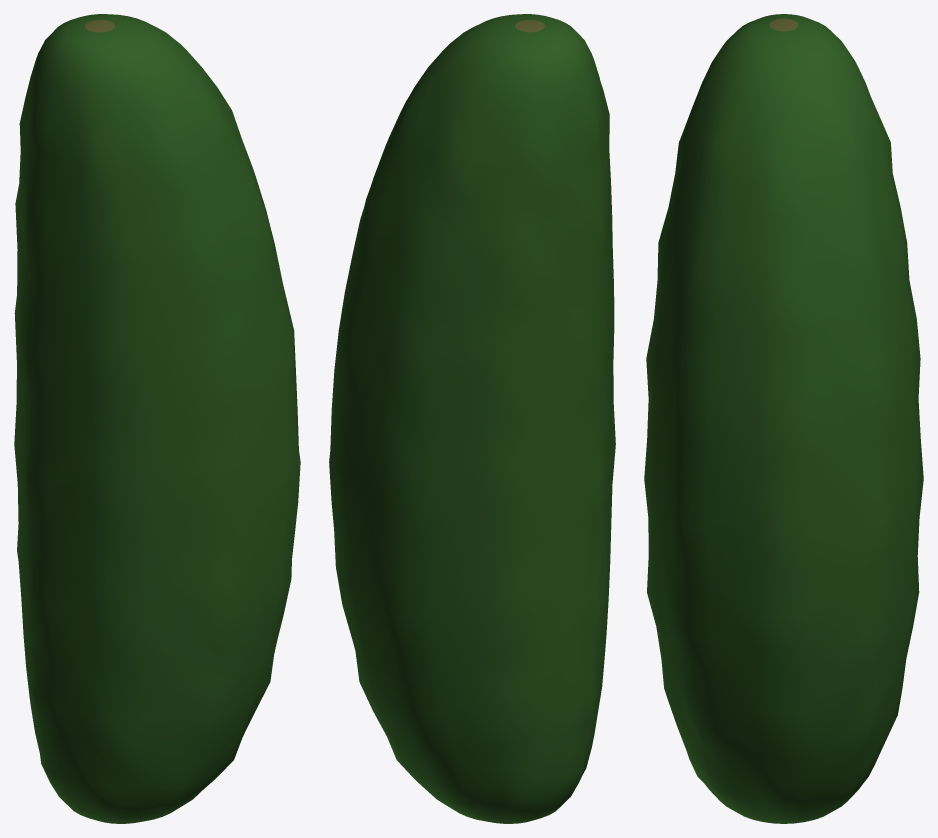
File: A-NEW-20261027-CUCUMBER-001_LOD2_R1.glb
3 views of the same model, side by side, from view 1: azimuth 30°, elevation 25°; view 2: azimuth 150°, elevation 25°; view 3: azimuth 270°, elevation 25° (orthographic). The views are drawn at different scales.
Parts seen in each view (by area): view 1: original curved cucumber skin bumps and rounded ends; view 2: original curved cucumber skin bumps and rounded ends; view 3: original curved cucumber skin bumps and rounded ends.
Part boxes in pixels (x1,y1,x2,y2): original curved cucumber skin bumps and rounded ends: [14, 14, 300, 823]; original curved cucumber skin bumps and rounded ends: [329, 14, 615, 823]; original curved cucumber skin bumps and rounded ends: [644, 14, 923, 823].
Bounding box in the file's own units: 0.0495 × 0.1442 × 0.0471.
